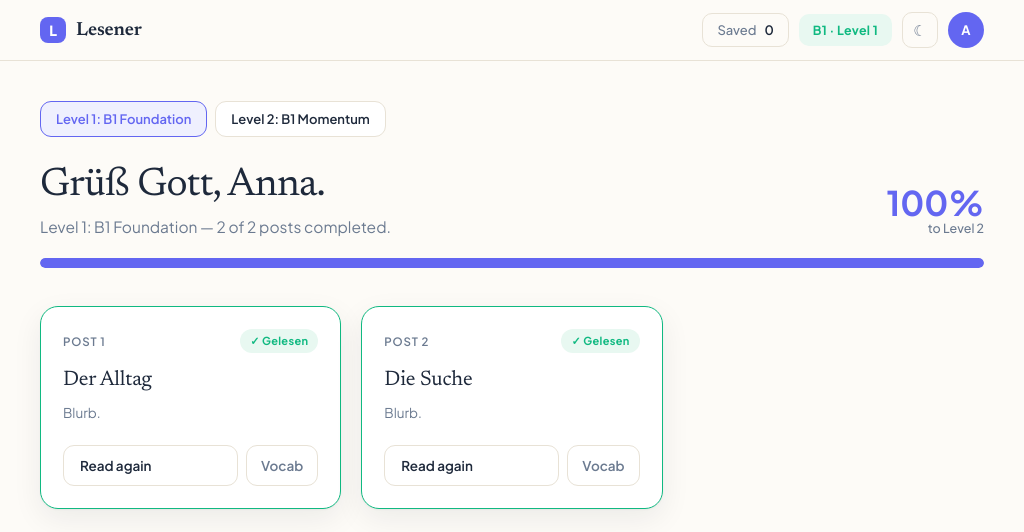
Scenario: the completion count › counts only the posts of the level on screen
Step 1. Click the button "Level 2: B1 Momentum" → (301, 119), box top-left (215, 101), bottom-right (386, 137)
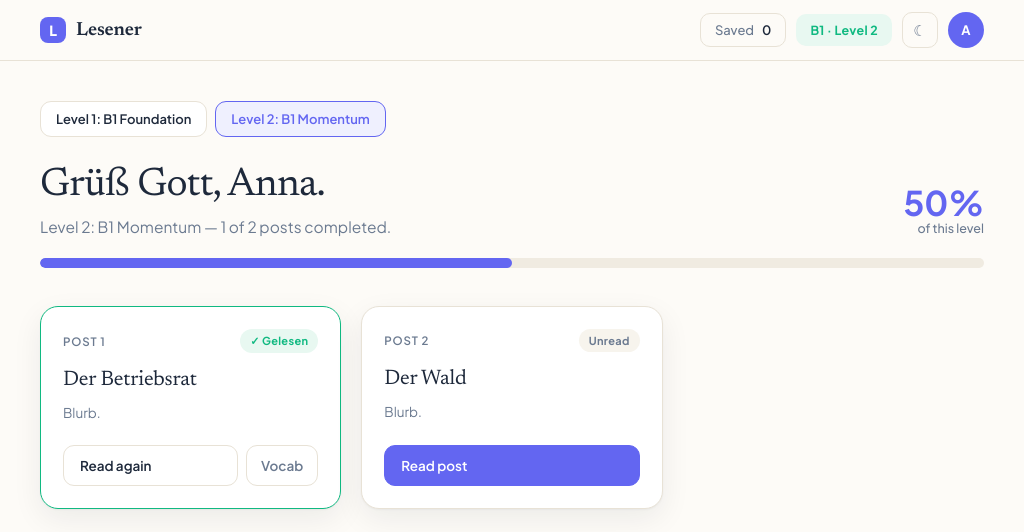
Check: the text "Level 2: B1 Momentum — 1 of 2 posts completed." is shown, box top-left (40, 217), bottom-right (391, 236)
Check: the text "50%" is shown, box top-left (904, 186), bottom-right (984, 220)
